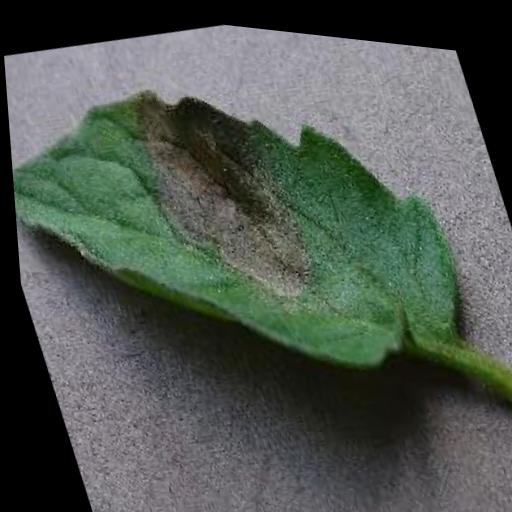Late Blight: (1, 10, 488, 449)
